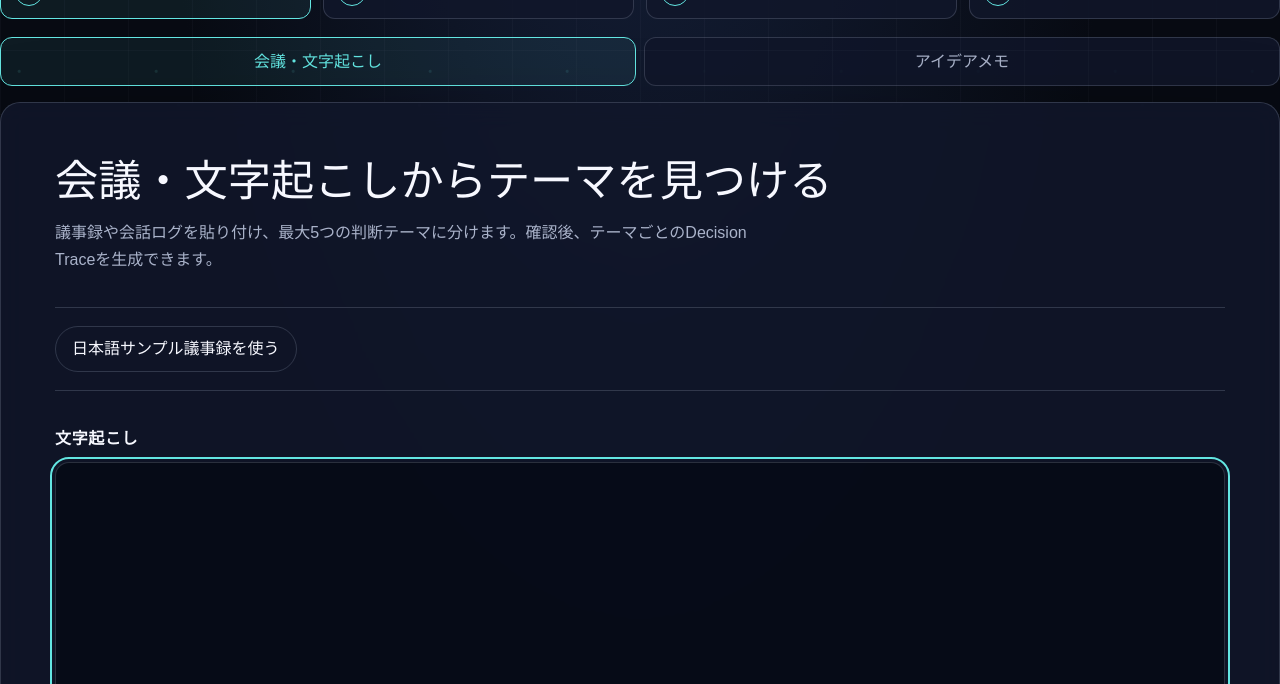
Test: DecisionTraceApp › shows safe bilingual guidance for ANALYSIS_REFUSED
Click the button "アイデアメモ": (962, 62) [644,37,1279,86]
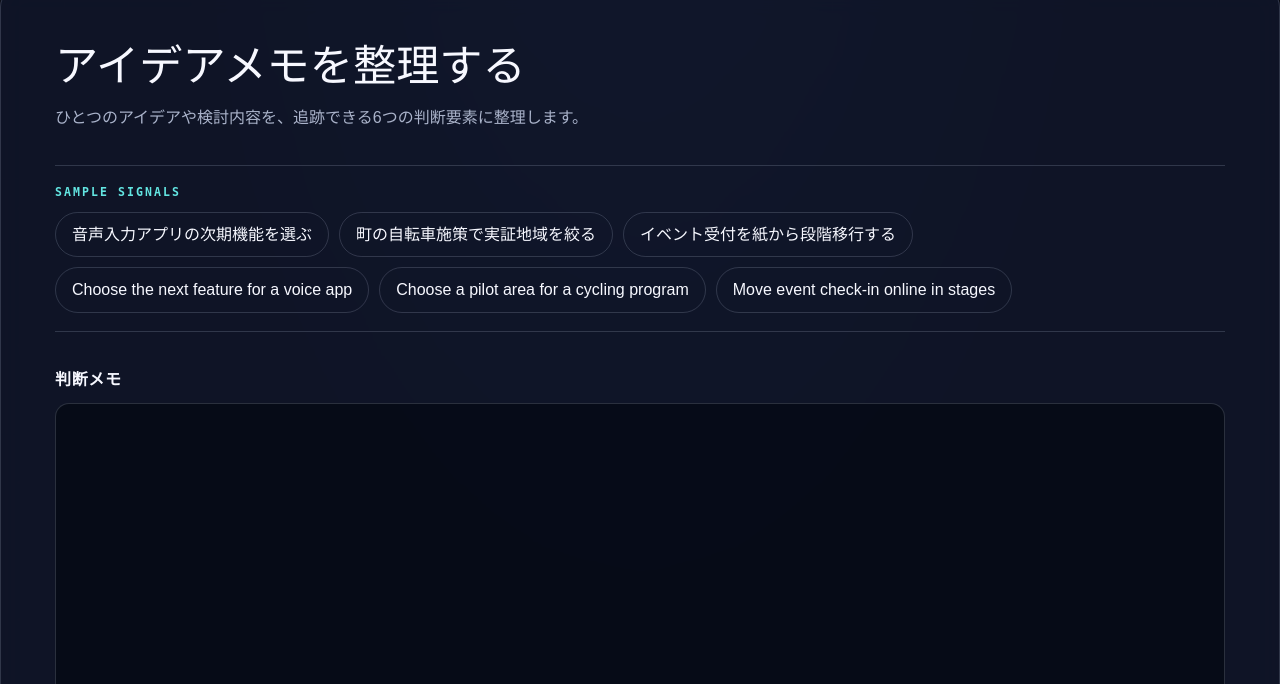
Click the button "町の自転車施策で実証地域を絞る": (476, 235) [339,212,613,257]
(page scrolled)
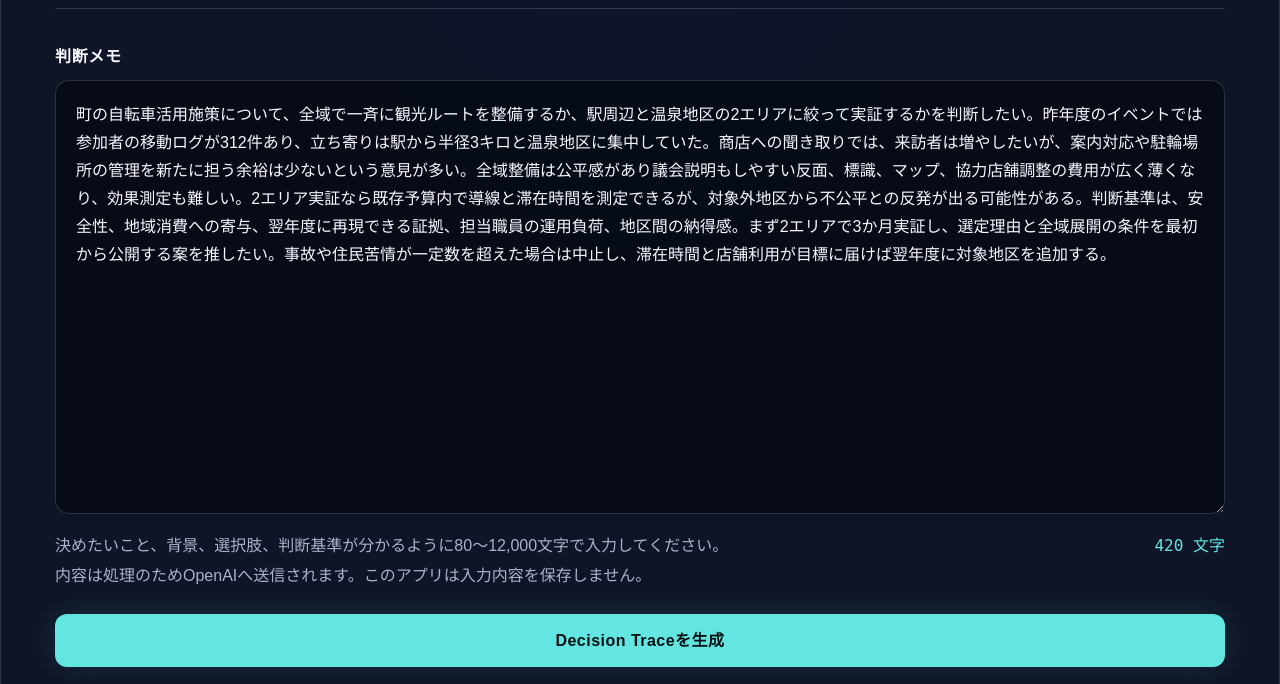
Click the button "Decision Traceを生成": (640, 641) [55,614,1225,668]
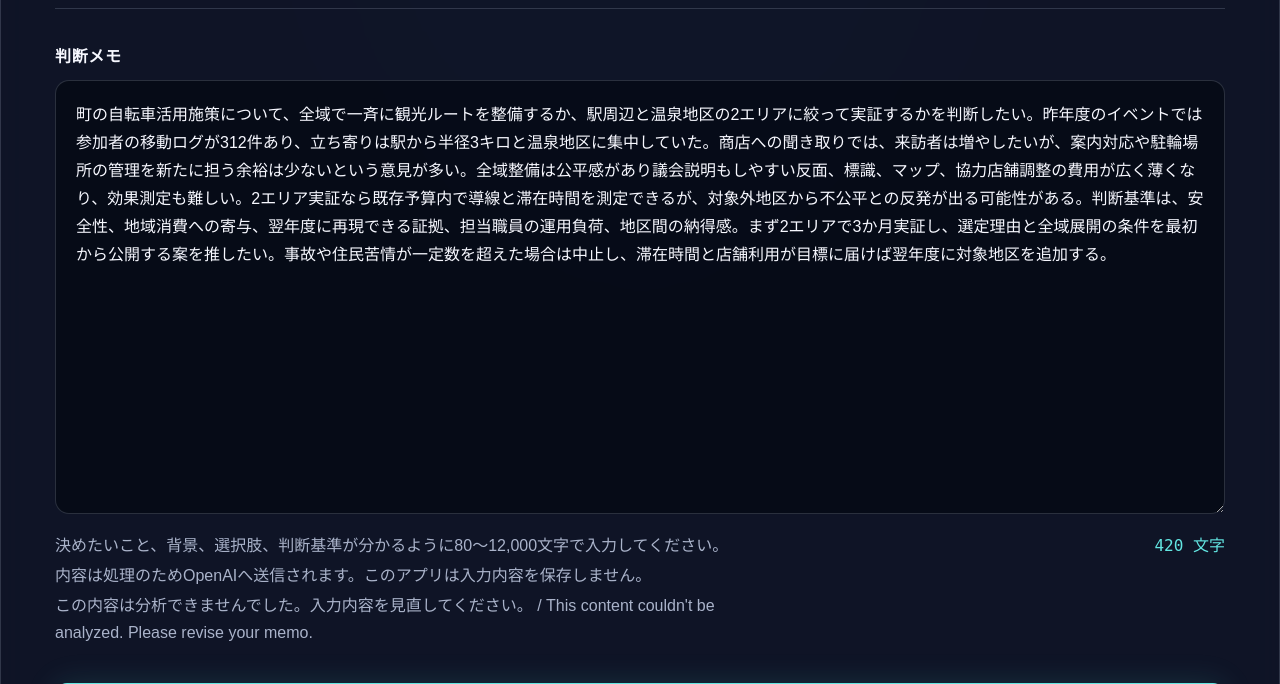
Now the text box labelled "判断メモ" holds "町の自転車活用施策について、全域で一斉に観光ルートを整備するか、駅周辺と温泉地区の2エリアに絞って実証するかを判断したい。昨年度のイベントでは参加者の移動ログが312件あり、立ち寄りは駅から半径3キロと温泉地区に集中していた。商店への聞き取りでは、来訪者は増やしたいが、案内対応や駐輪場所の管理を新たに担う余裕は少ないと", box [55,80,1225,514]
Now the message shows "この内容は分析できませんでした", box [55,597,715,642]
Now the message shows "This content couldn't be analyzed", box [55,597,715,642]
